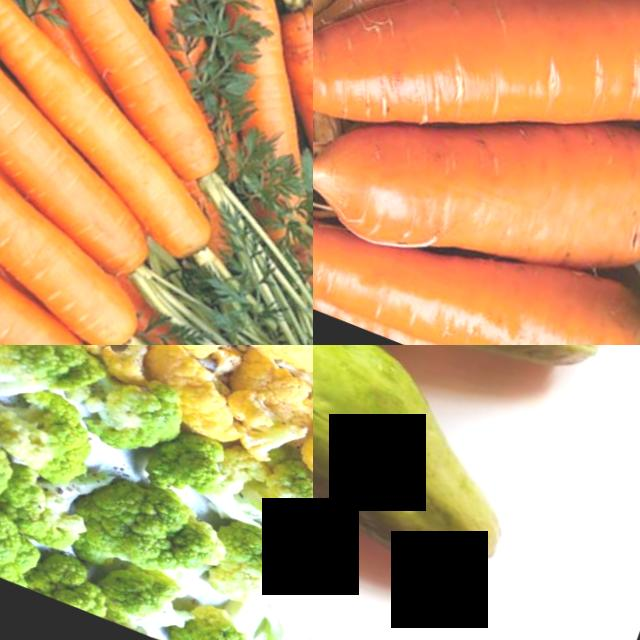carrot: (436, 70, 640, 280), (414, 0, 640, 184), (0, 179, 200, 343), (80, 34, 274, 179), (5, 168, 196, 284), (0, 217, 122, 345), (119, 164, 260, 270), (272, 0, 313, 127)
chayote: (313, 345, 586, 623), (313, 345, 640, 432)
